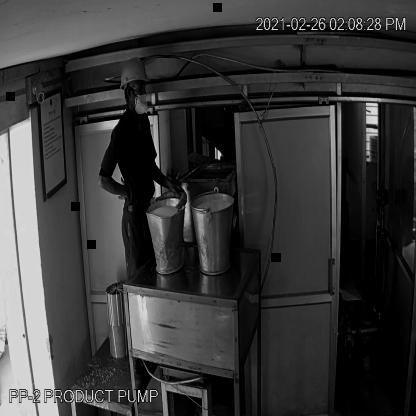helmet: (118, 54, 154, 96)
